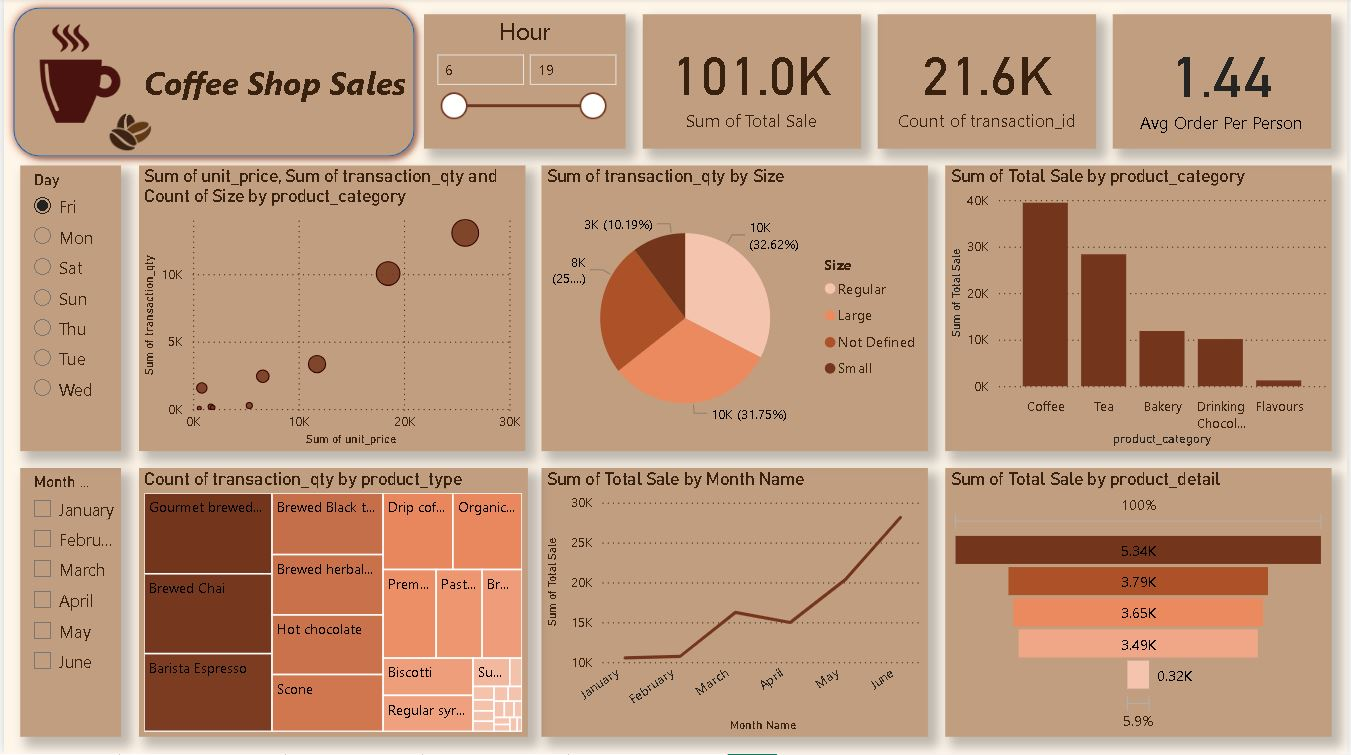

The page's visual inventory and layout, read from the dashboard file:
{"tool":"powerbi","page":{"name":"Sales Dashoard","canvas":[1280,720],"ordinal":0},"visuals":[{"type":"shape","box":[0,0,400,160],"z":0,"group":"g1"},{"type":"slicer","fields":{"Values":["Transactions.Month Name"]},"box":[16,448,96,256],"z":0},{"type":"columnChart","fields":{"Category":["Transactions.product_category"],"Y":["Sum(Transactions.Total Sale)"]},"box":[896,160,368,272],"z":1000},{"type":"lineChart","fields":{"Y":["Sum(Transactions.Total Sale)"],"Category":["Transactions.Month Name"]},"box":[512,448,368,256],"z":2000},{"type":"funnel","fields":{"Category":["Transactions.product_detail"],"Y":["Sum(Transactions.Total Sale)"]},"box":[896,448,368,256],"z":3000},{"type":"slicer","fields":{"Values":["Transactions.Month"]},"box":[16,160,96,272],"z":4000},{"type":"slicer","fields":{"Values":["Transactions.transaction_date"]},"box":[128,160,304,112],"z":5000},{"type":"slicer","fields":{"Values":["Transactions.Hour"]},"box":[128,272,304,144],"z":6000},{"type":"scatterChart","fields":{"Y":["Sum(Transactions.transaction_qty)"],"Size":["CountNonNull(Transactions.Size)"],"X":["Sum(Transactions.unit_price)"],"Category":["Transactions.product_category"]},"box":[128,160,368,272],"z":7000},{"type":"treemap","fields":{"Group":["Transactions.product_type"],"Values":["CountNonNull(Transactions.transaction_qty)"]},"box":[128,448,370,256],"z":8000},{"type":"card","fields":{"Values":["Count(Transactions.transaction_id)"]},"box":[832,16,208,128],"z":9000},{"type":"card","fields":{"Values":["Sum(Transactions.Total Sale)"]},"box":[608,16,208,128],"z":10000},{"type":"slicer","title":"Hour","fields":{"Values":["Transactions.Hour"]},"box":[400,16,192,128],"z":11000},{"type":"pieChart","fields":{"Category":["Transactions.Size"],"Y":["Sum(Transactions.transaction_qty)"]},"box":[512,160,368,272],"z":12000},{"type":"group","id":"g1","title":"Group 1","box":[0,0,400,160],"z":13000},{"type":"card","fields":{"Values":["Transactions.Total Quantity Sold"]},"box":[1056,16,208,128],"z":14000},{"type":"image","box":[64,80,112,96],"z":15000},{"type":"image","box":[0,0,144,144],"z":16000}]}

Visuals, with their boxes in screenshot pixels (x1, y1, x2, y2), scaled from the page's 1280x720 canvas onto the 1351x755 screenshot:
shape: detection(0, 0, 422, 168)
slicer - Transactions.Month Name: detection(17, 470, 118, 738)
columnChart - Transactions.product_category x Sum(Transactions.Total Sale): detection(946, 168, 1334, 453)
lineChart - Sum(Transactions.Total Sale) x Transactions.Month Name: detection(540, 470, 929, 738)
funnel - Transactions.product_detail x Sum(Transactions.Total Sale): detection(946, 470, 1334, 738)
slicer - Transactions.Month: detection(17, 168, 118, 453)
slicer - Transactions.transaction_date: detection(135, 168, 456, 285)
slicer - Transactions.Hour: detection(135, 285, 456, 436)
scatterChart - Sum(Transactions.transaction_qty) x CountNonNull(Transactions.Size): detection(135, 168, 524, 453)
treemap - Transactions.product_type x CountNonNull(Transactions.transaction_qty): detection(135, 470, 526, 738)
card - Count(Transactions.transaction_id): detection(878, 17, 1098, 151)
card - Sum(Transactions.Total Sale): detection(642, 17, 861, 151)
"Hour" slicer: detection(422, 17, 625, 151)
pieChart - Transactions.Size x Sum(Transactions.transaction_qty): detection(540, 168, 929, 453)
"Group 1" group: detection(0, 0, 422, 168)
card - Transactions.Total Quantity Sold: detection(1115, 17, 1334, 151)
image: detection(68, 84, 186, 185)
image: detection(0, 0, 152, 151)
